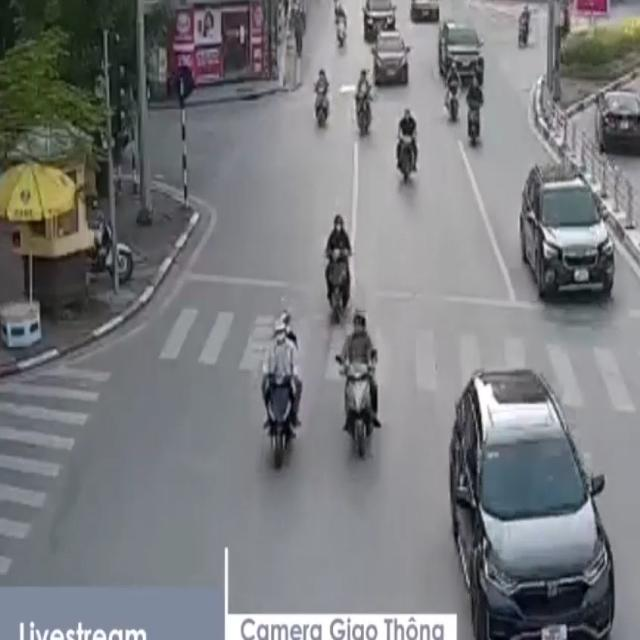car: (450, 367, 617, 639), (522, 173, 614, 300), (438, 22, 486, 80), (599, 93, 640, 159), (372, 32, 410, 89), (363, 0, 397, 34)
motorbike: (250, 296, 311, 484), (330, 303, 388, 468), (316, 200, 359, 328), (389, 101, 422, 191), (460, 67, 487, 146), (439, 58, 466, 132), (352, 65, 377, 141), (509, 1, 540, 56), (311, 62, 331, 134), (332, 4, 354, 53)
